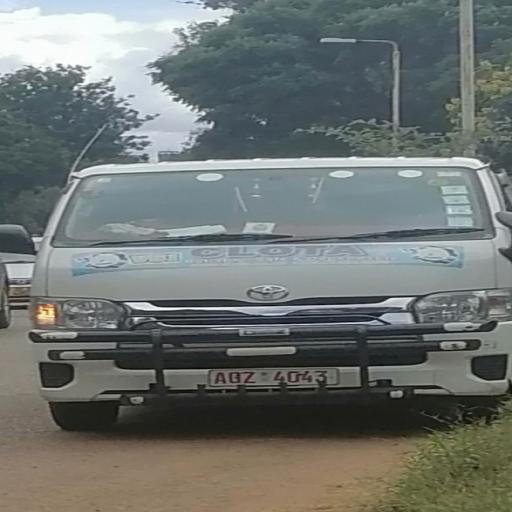number-plates: (201, 365, 350, 393)
